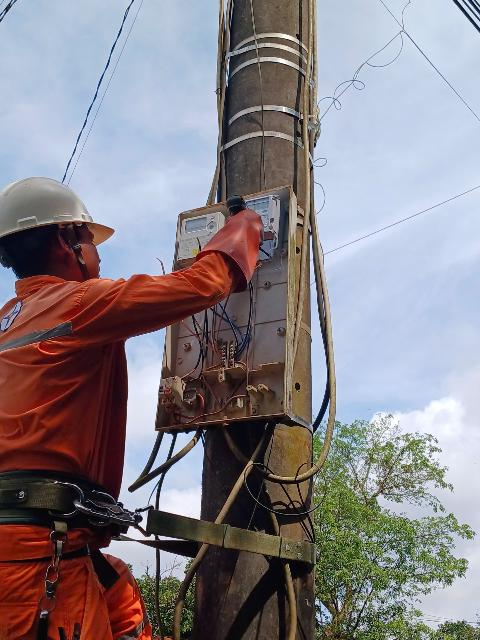gloves: (200, 195, 284, 297)
harness: (0, 457, 153, 547)
helmet: (0, 157, 119, 264)
